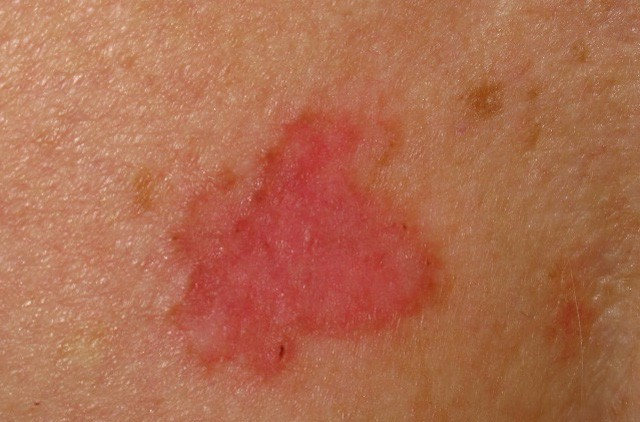Basa Cell Carcinoma: (97, 60, 493, 391)
